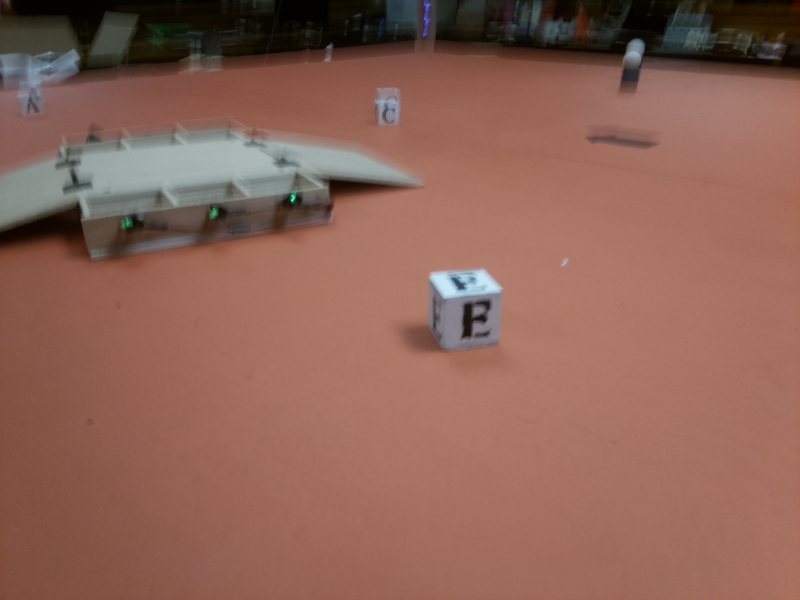blockA: (14, 86, 48, 120)
blockC: (372, 92, 401, 129)
blockE: (426, 264, 507, 353)
corner: (415, 1, 438, 53)
obstacle: (617, 42, 647, 98)
side: (83, 173, 340, 260)
slope: (267, 132, 428, 193), (3, 153, 79, 237)
start: (585, 120, 665, 153)
